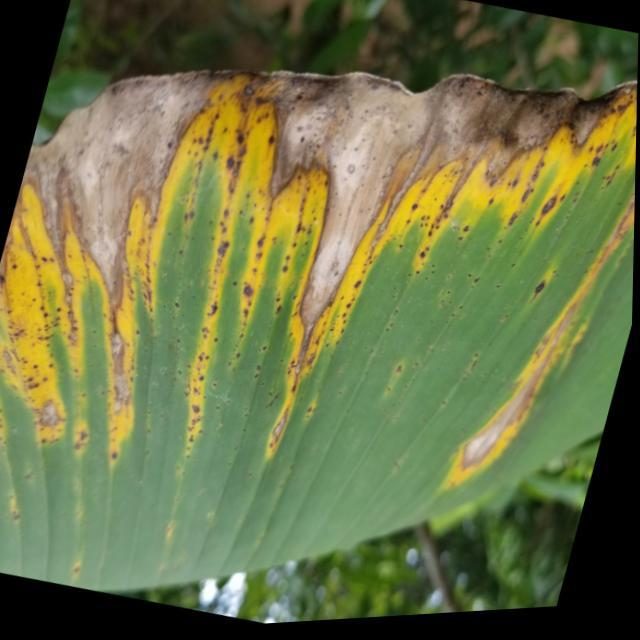Early_rust: (0, 90, 640, 565)
